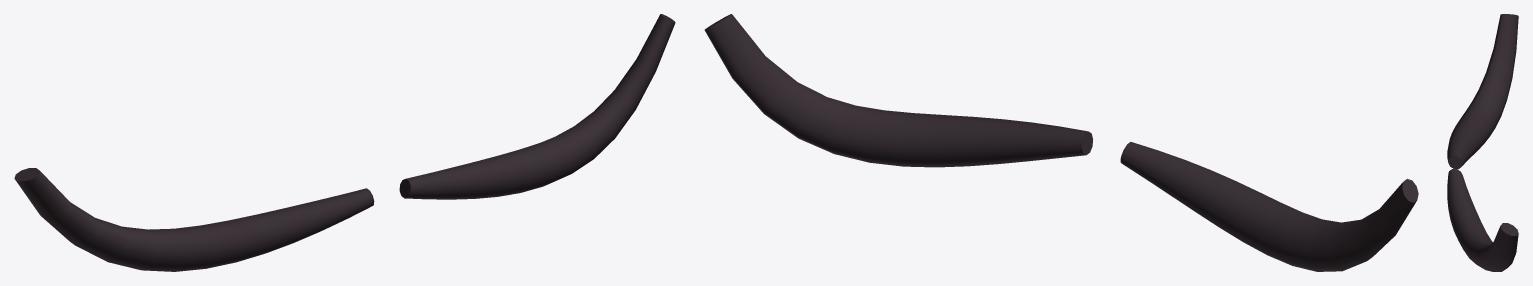
Rendered from facial_handlebar_default.gltf.
The picture shows the model from 3 angles, left to right: view 1: azimuth 30°, elevation 25°; view 2: azimuth 150°, elevation 25°; view 3: azimuth 270°, elevation 25°; orthographic projection. The views are drawn at different scales.
Parts seen in each view (by area): view 1: Handlebar default; view 2: Handlebar default; view 3: Handlebar default.
Boxes of the visible parts, x1=… form: Handlebar default: x1=14, y1=14, x2=675, y2=271; Handlebar default: x1=704, y1=14, x2=1418, y2=271; Handlebar default: x1=1447, y1=14, x2=1518, y2=271.
Size of the model in its own units: 0.2541 by 0.0433 by 0.0349.
1 material, 1 textured.
